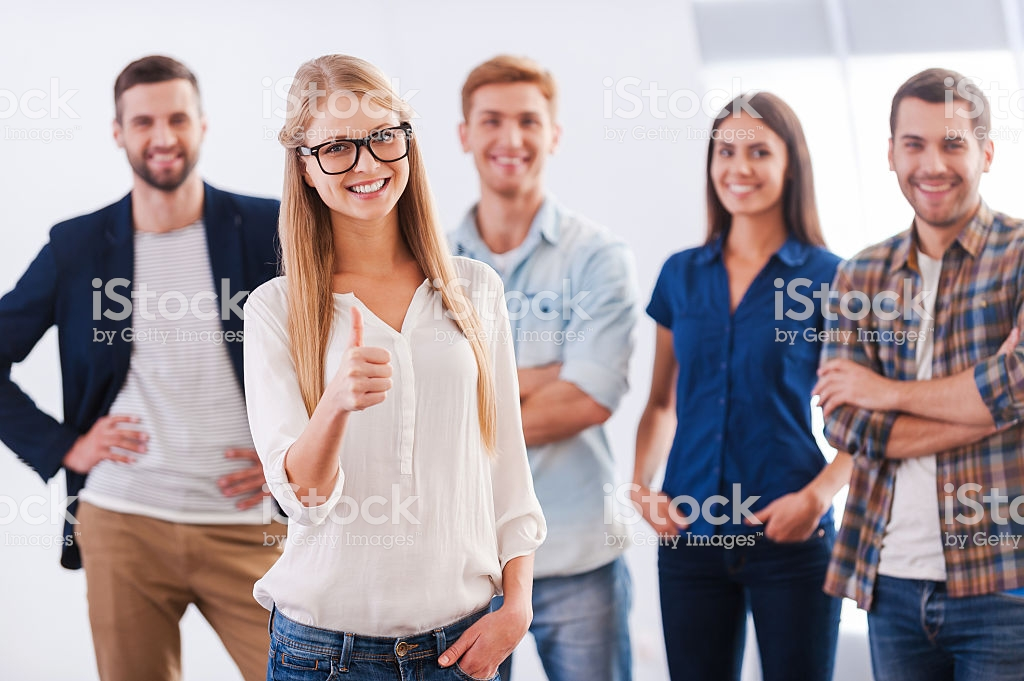thumbsup: (334, 303, 395, 414)
